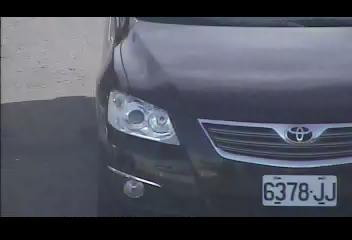plate: (261, 173, 338, 207)
